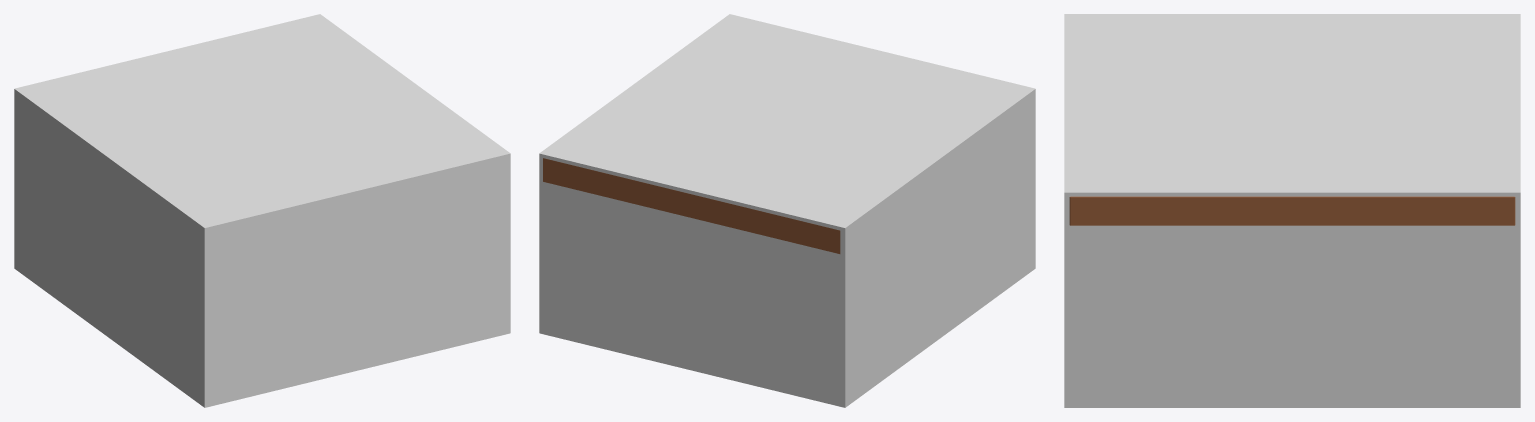
File: table-b.glb
3 views of the same model, side by side, from view 1: azimuth 30°, elevation 25°; view 2: azimuth 150°, elevation 25°; view 3: azimuth 270°, elevation 25° (orthographic). The views are drawn at different scales.
Parts seen in each view (by area): view 1: Table B_col; view 2: Table B_col, Table B; view 3: Table B_col, Table B.
Boxes of the visible parts, <box> form: Table B_col: <box>14,14,510,407</box>; Table B_col: <box>539,14,1035,407</box>; Table B: <box>543,158,840,253</box>; Table B_col: <box>1064,14,1520,407</box>; Table B: <box>1069,196,1515,225</box>.
Size of the model in its own units: 3.3 by 1.86 by 3.56.
